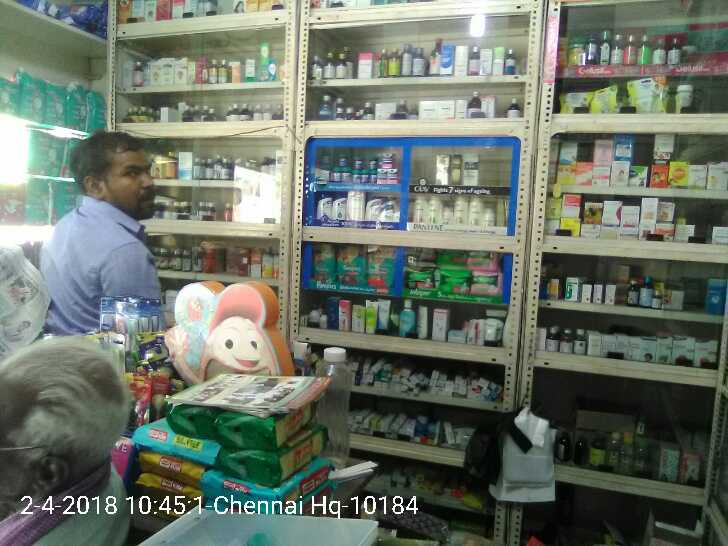vicks: (377, 153, 393, 169), (386, 169, 400, 184), (341, 168, 352, 184), (338, 153, 350, 167), (320, 153, 330, 168), (377, 169, 386, 184), (354, 153, 362, 169), (330, 168, 339, 182), (353, 170, 362, 183), (368, 157, 376, 170), (362, 170, 369, 182), (369, 171, 376, 182)
